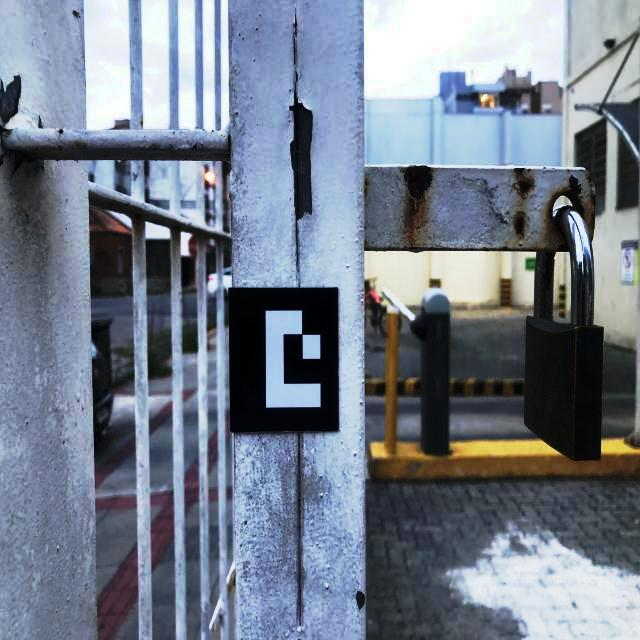Corrosion: (548, 183, 586, 238), (403, 165, 433, 201), (512, 167, 534, 199), (514, 215, 525, 239), (408, 246, 447, 250), (555, 241, 569, 252), (591, 211, 595, 232), (591, 193, 596, 208), (228, 580, 233, 594), (588, 174, 594, 185), (364, 180, 368, 194), (135, 213, 143, 220), (502, 247, 514, 251), (365, 240, 369, 251), (58, 129, 63, 134), (528, 249, 536, 252), (58, 146, 62, 151), (483, 248, 489, 251), (141, 120, 143, 126), (528, 168, 531, 171), (590, 184, 592, 186), (568, 169, 569, 171)
